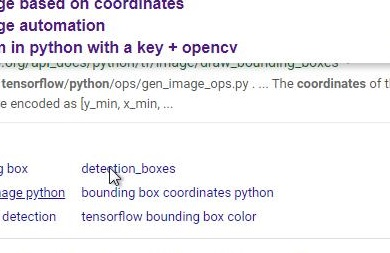cursor: (108, 167, 123, 188)
